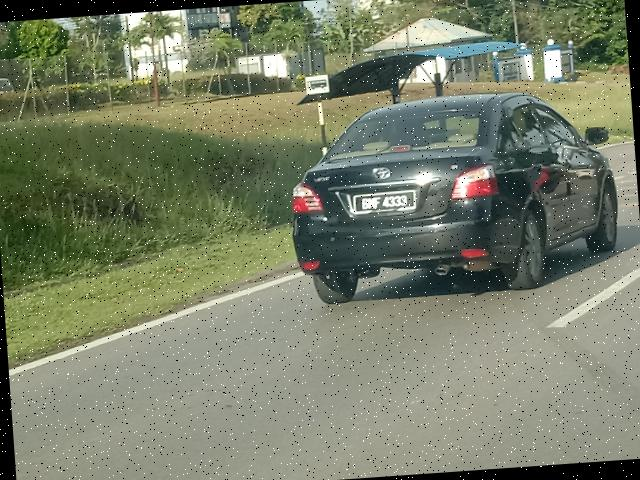License_Plate: (354, 190, 417, 216)
car: (276, 77, 632, 304)
